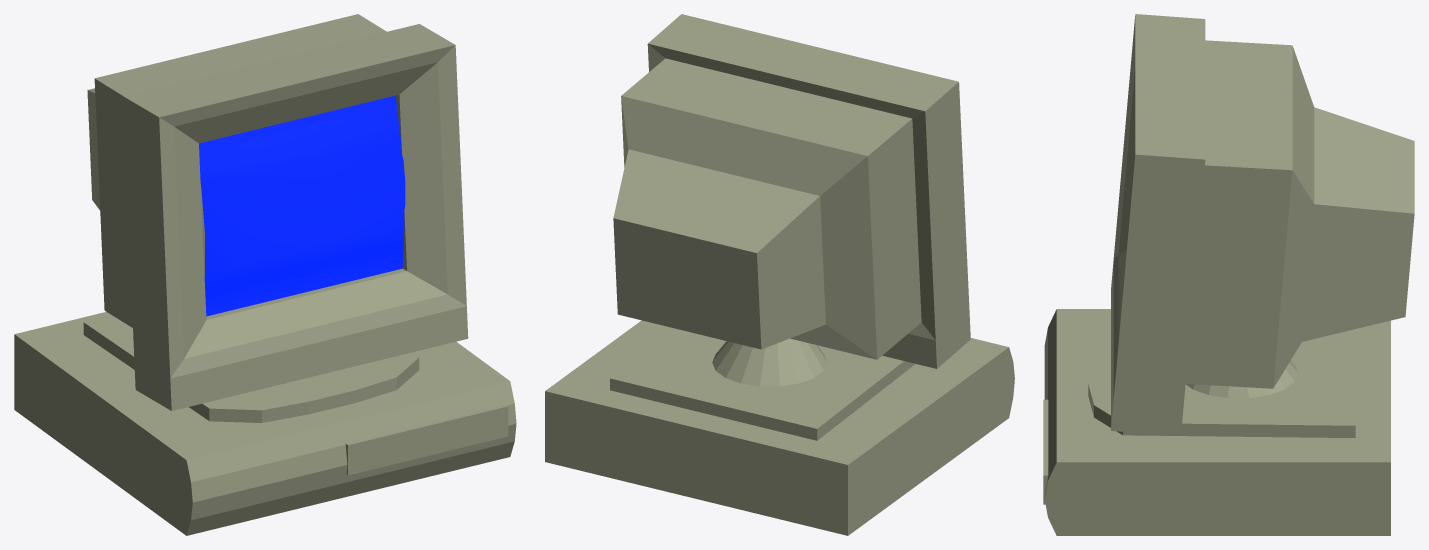
File: 90s_computer 1.fbx
3 renders of one model, left to right at view 1: azimuth 30°, elevation 25°; view 2: azimuth 150°, elevation 25°; view 3: azimuth 270°, elevation 25°, orthographic. The views are drawn at different scales.
Parts seen in each view (by area): view 1: 90s_computer; view 2: 90s_computer; view 3: 90s_computer.
Part boxes in pixels (box(x1,y1,x2,y2)): 90s_computer: box(14, 14, 516, 535); 90s_computer: box(545, 14, 1014, 535); 90s_computer: box(1043, 14, 1414, 535).
Bounding box in the file's own units: 155 × 177 × 159.
